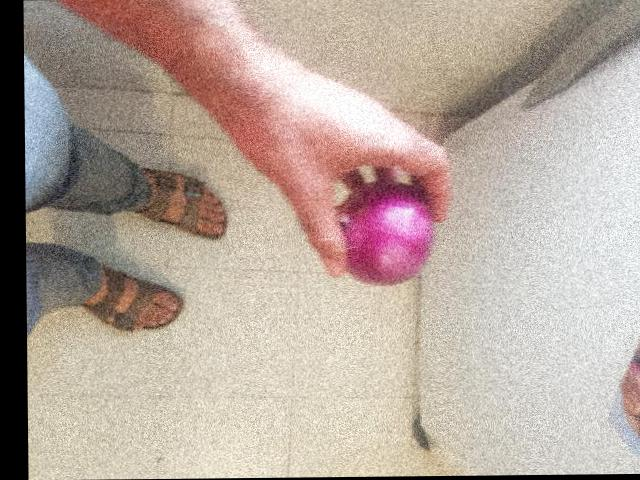onion: (340, 181, 437, 285)
